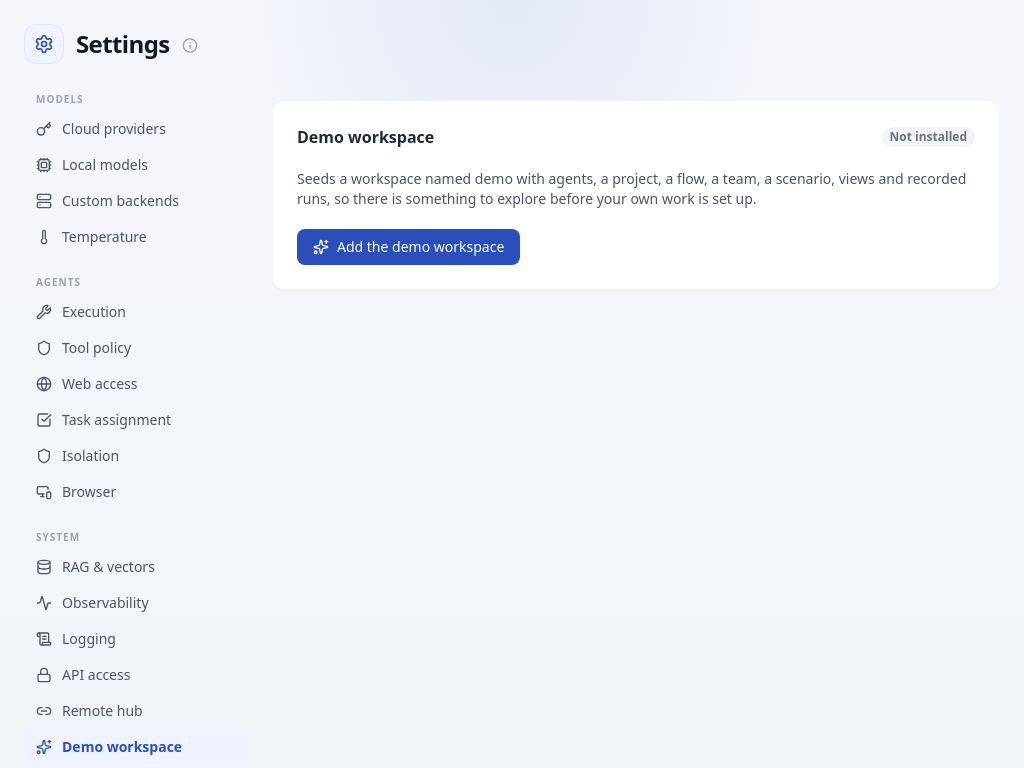
Scenario: Settings demo workspace card › shows the absent state and adds the workspace
This screenshot has width=1024, height=768.
expect the text "Not installed" is shown: met, box [882, 127, 975, 147]
Click the button "Add the demo workspace" at (409, 247), box [297, 229, 520, 265]
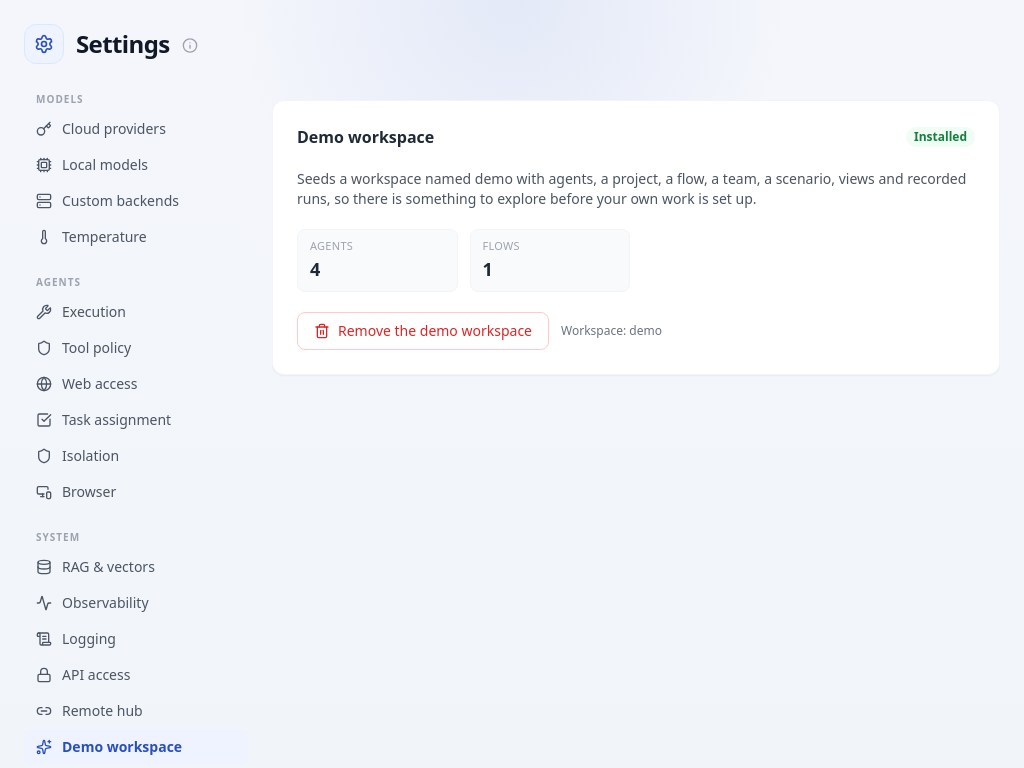
expect the text "Installed" is shown: met, box [906, 127, 975, 147]
expect the text "Agents 4" is shown: met, box [297, 229, 458, 292]
